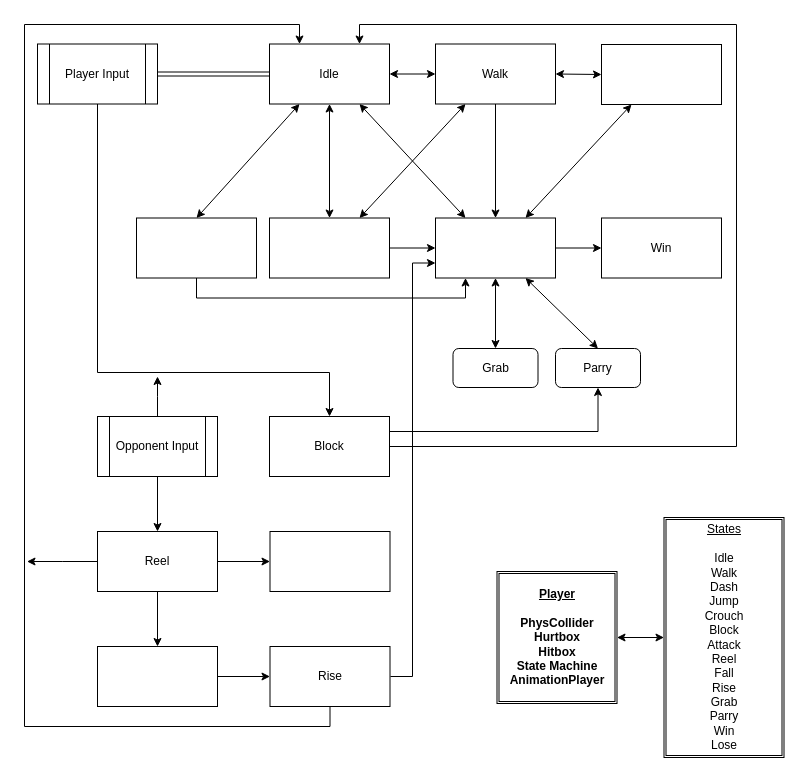
This 802x775 diagram has some shape labels left out. The centre of each missing label's shape, as x and y in pixels:
"Attack" belongs at (x=495, y=247).
"Crouch" belongs at (x=329, y=247).
"Dash" belongs at (x=661, y=74).
"Fall" belongs at (x=157, y=676).
"Jump" belongs at (x=196, y=247).
"Lose" belongs at (x=329, y=561).
